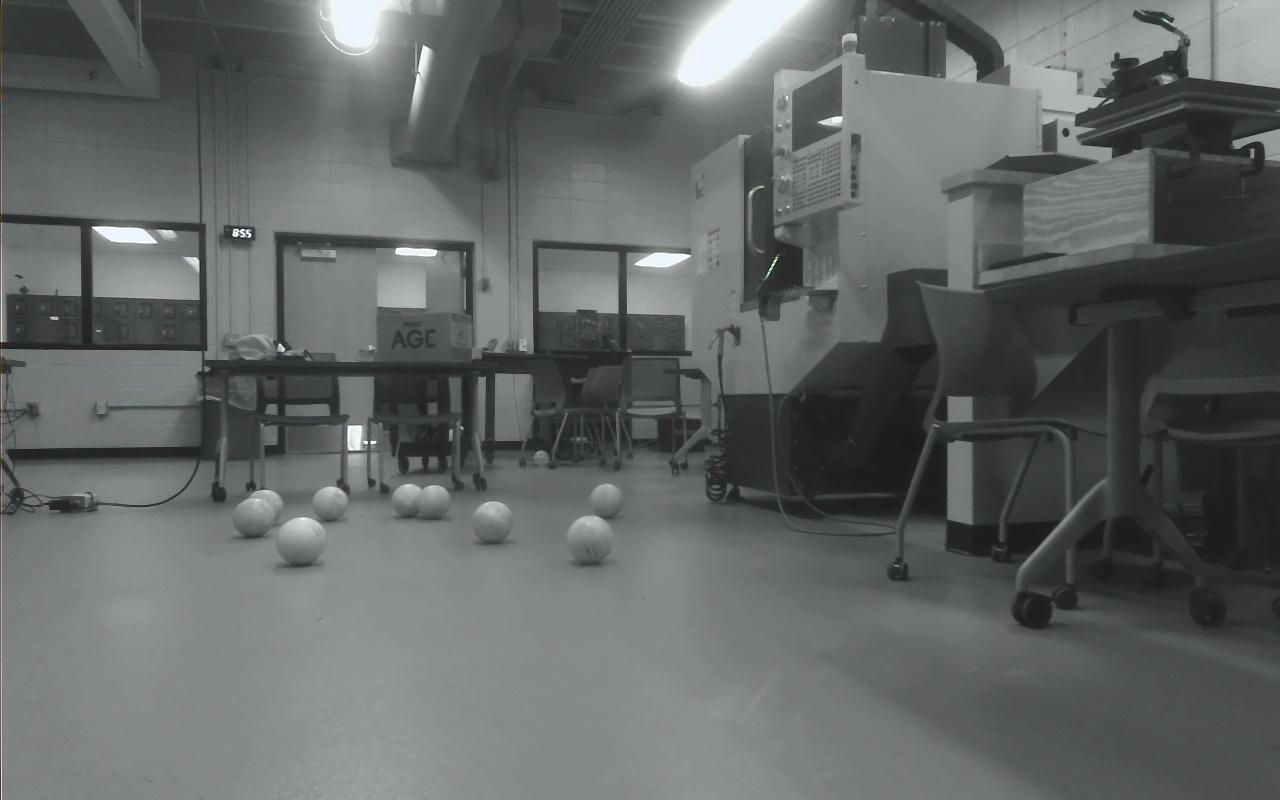Fuel: (275, 515, 326, 566), (566, 514, 614, 565), (472, 500, 513, 542), (232, 498, 275, 538), (417, 484, 452, 520), (314, 485, 348, 522), (247, 490, 284, 524), (590, 482, 622, 518), (390, 482, 422, 517)
